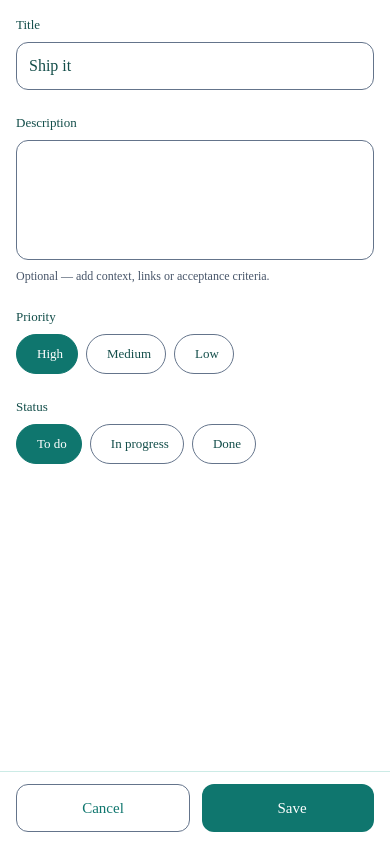
Test: TaskForm › blocks saving without a title and shows the error next to the field
Clear the field named "Title". click: (195,66)
box: [16,42,374,90]
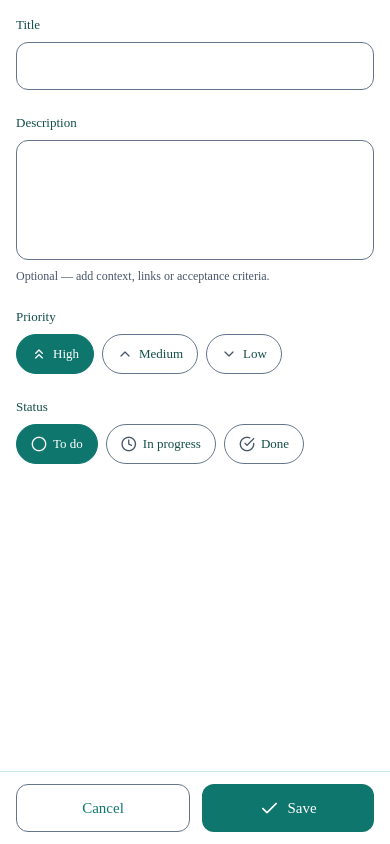
Click the button " Save". click: (288,808)
box: [202,784,374,832]
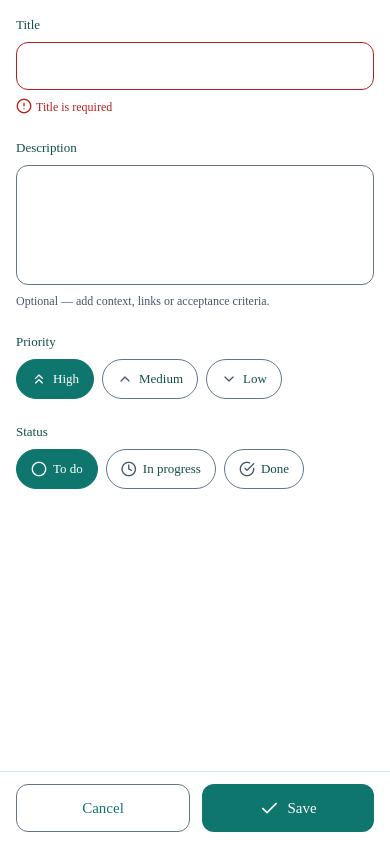
Now the text "Title is required" is shown, box [36,98,112,114]
